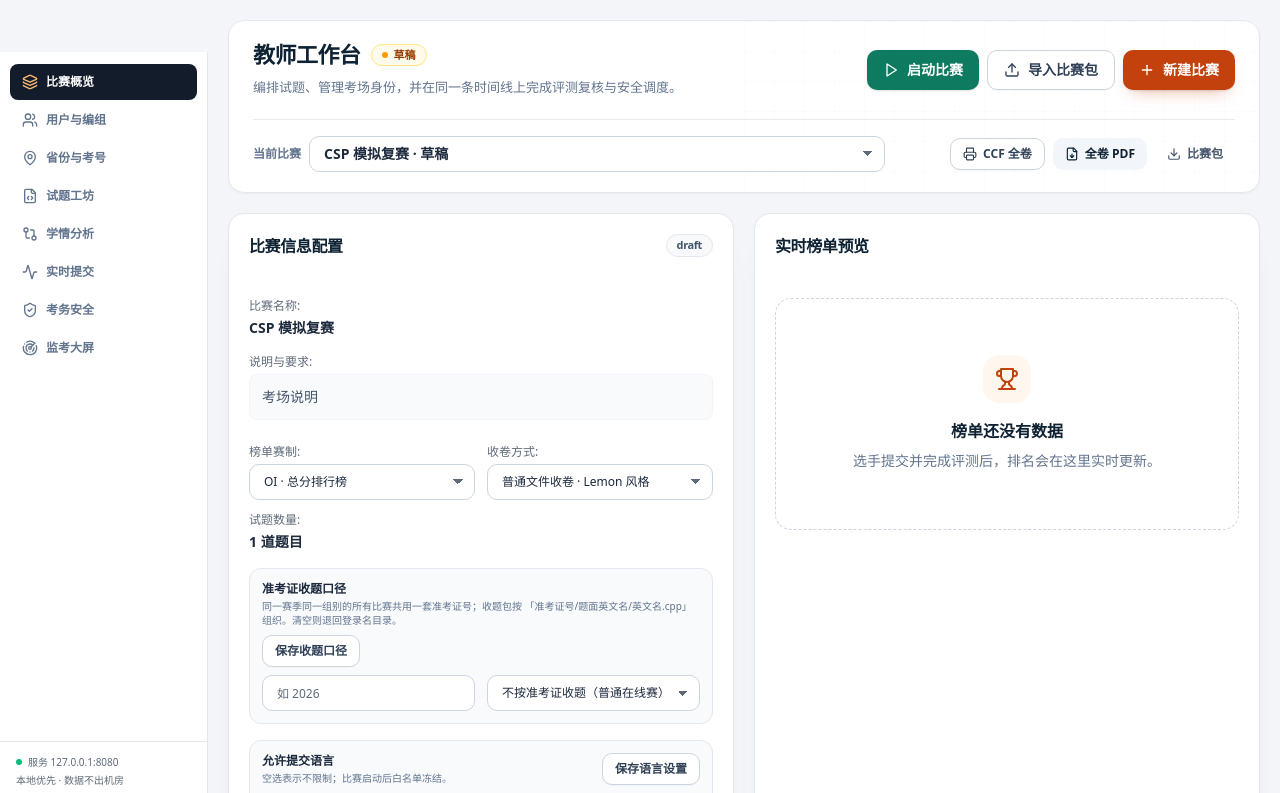
Test: TeacherConsole test data workflow › blocks saving an interaction task without interactor source
Click the tab "试题工坊".
click(104, 196)  # box [10,178,197,214]
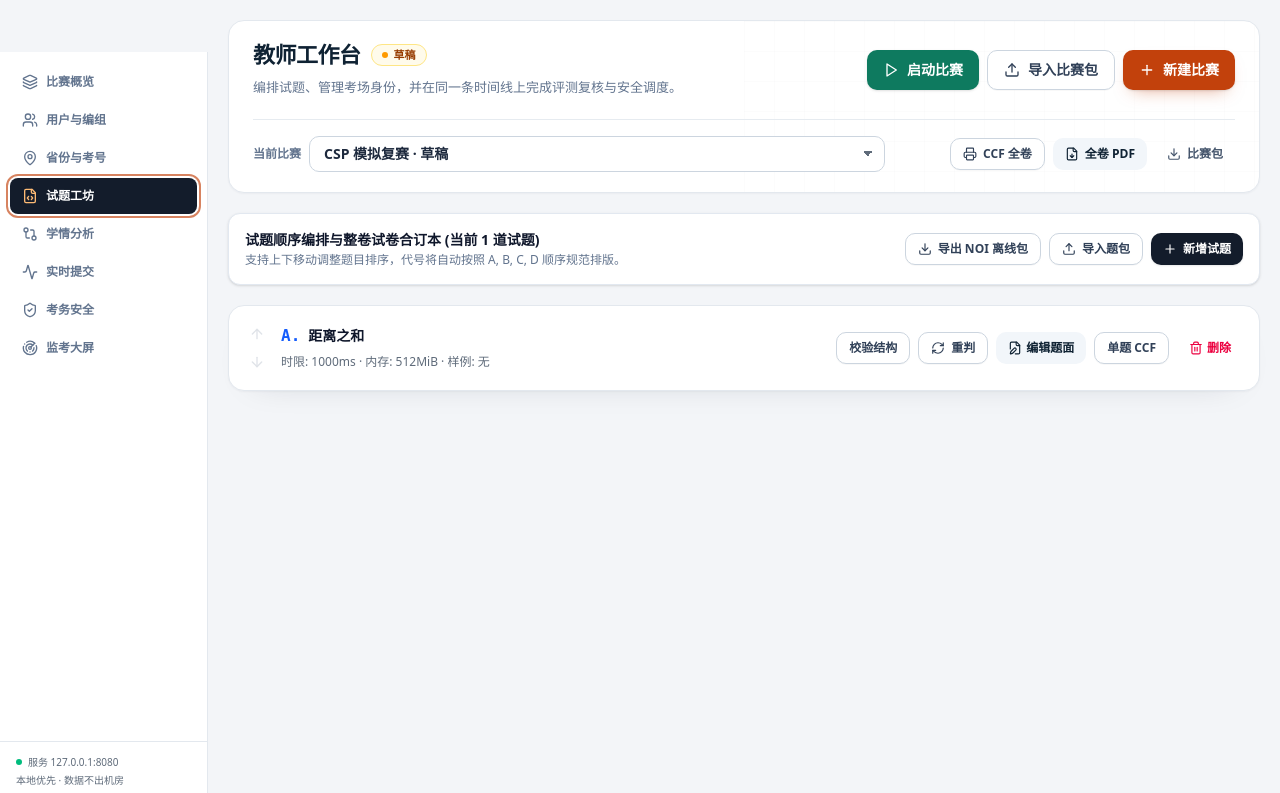
Click the button "编辑题面".
click(1041, 348)  # box [996,332,1086,364]
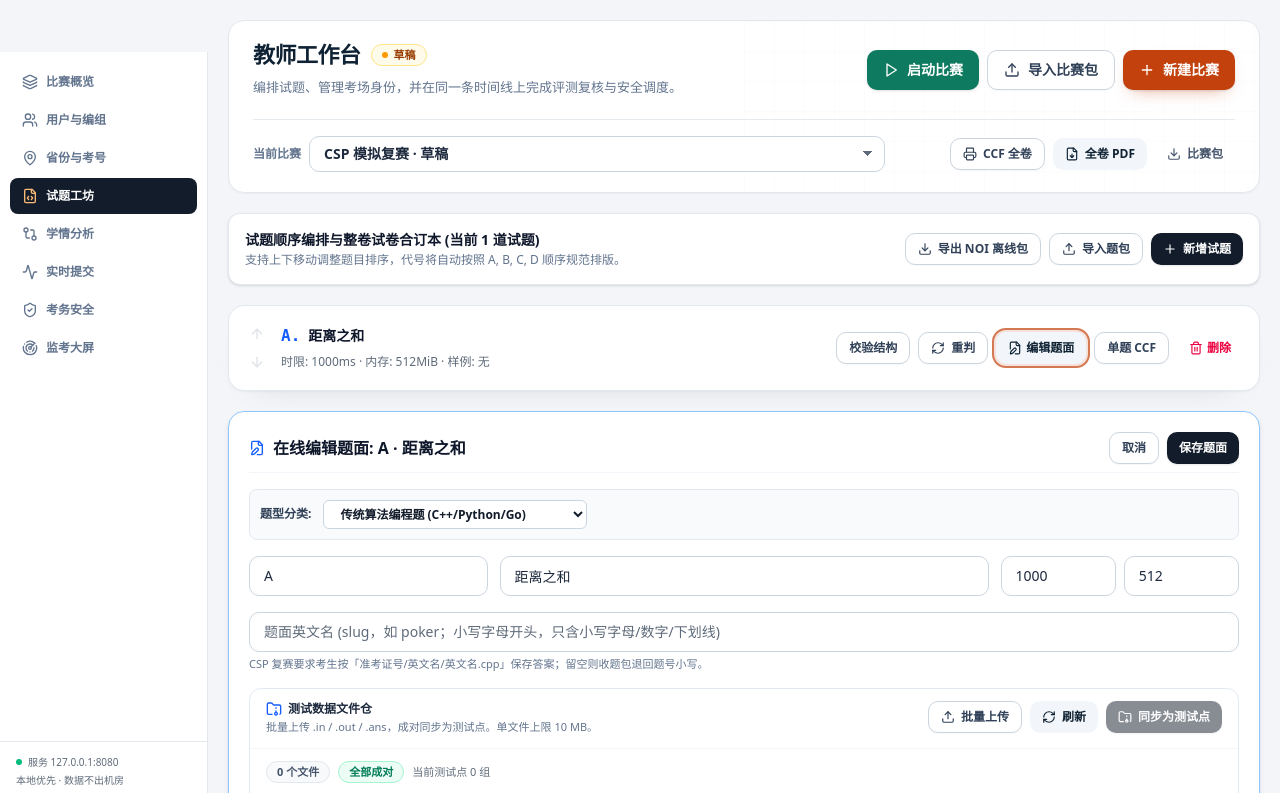
Result: the text "测试数据文件仓" is shown at [266,700,372,717]
Select "交互题 (Interactor 通信评测)" in the dropdown named "题型分类" at (455, 514), box [323,500,587,528]
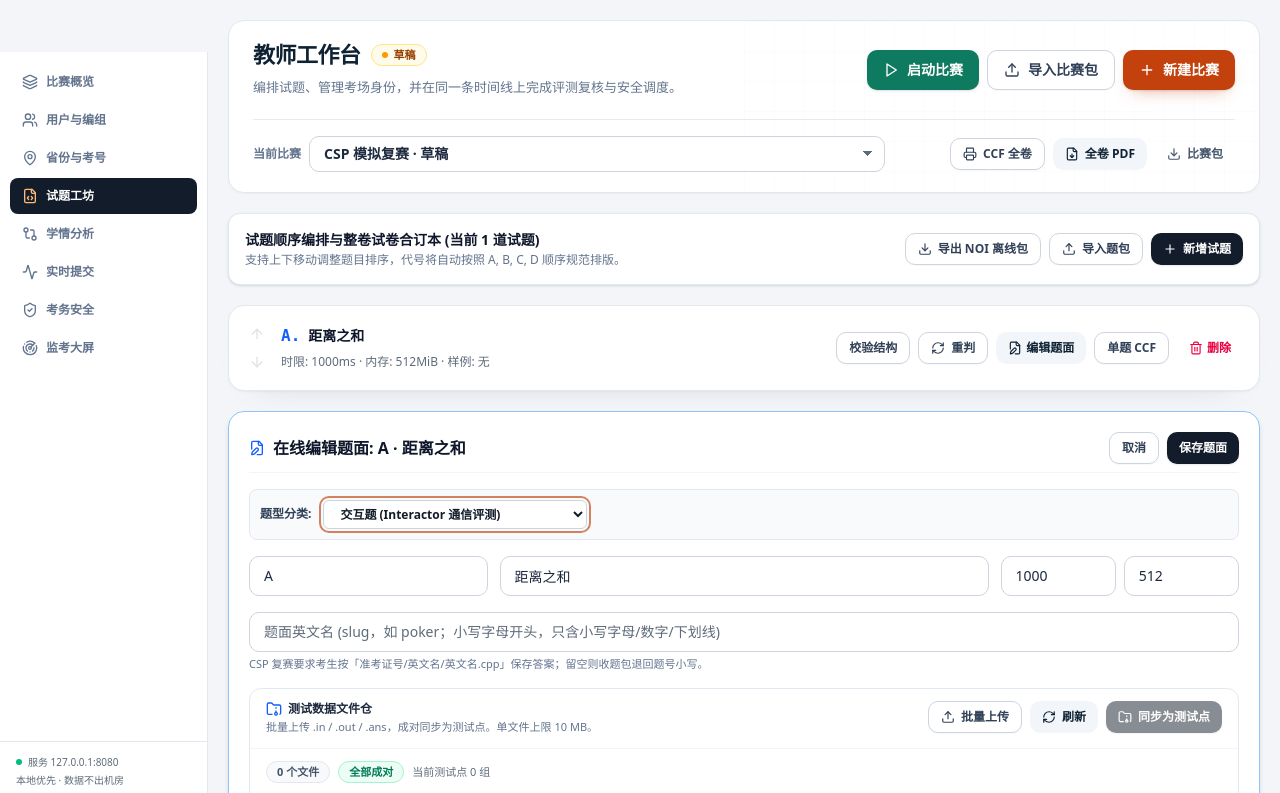
Click the button "保存题面".
click(1203, 448)  # box [1167,432,1239,464]
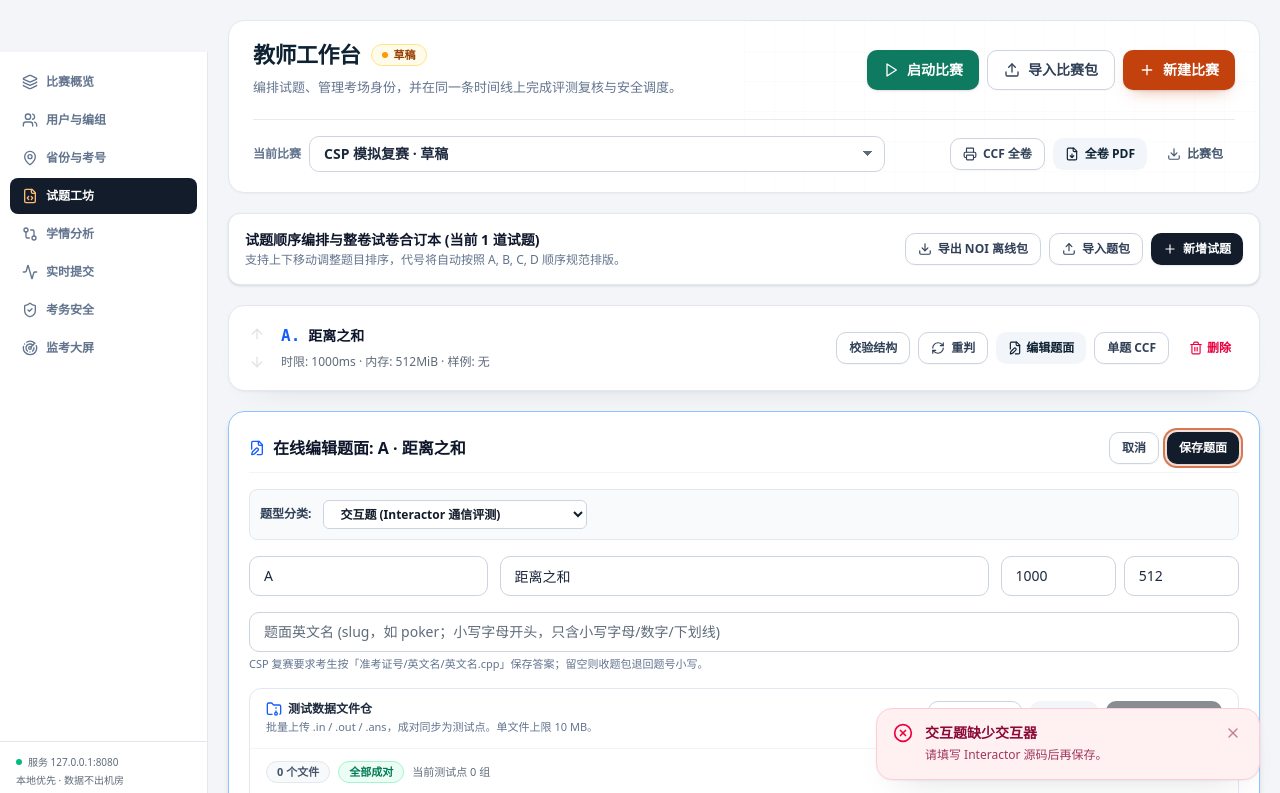
Result: the text "交互题缺少交互器" is shown at [925,723,1037,742]
